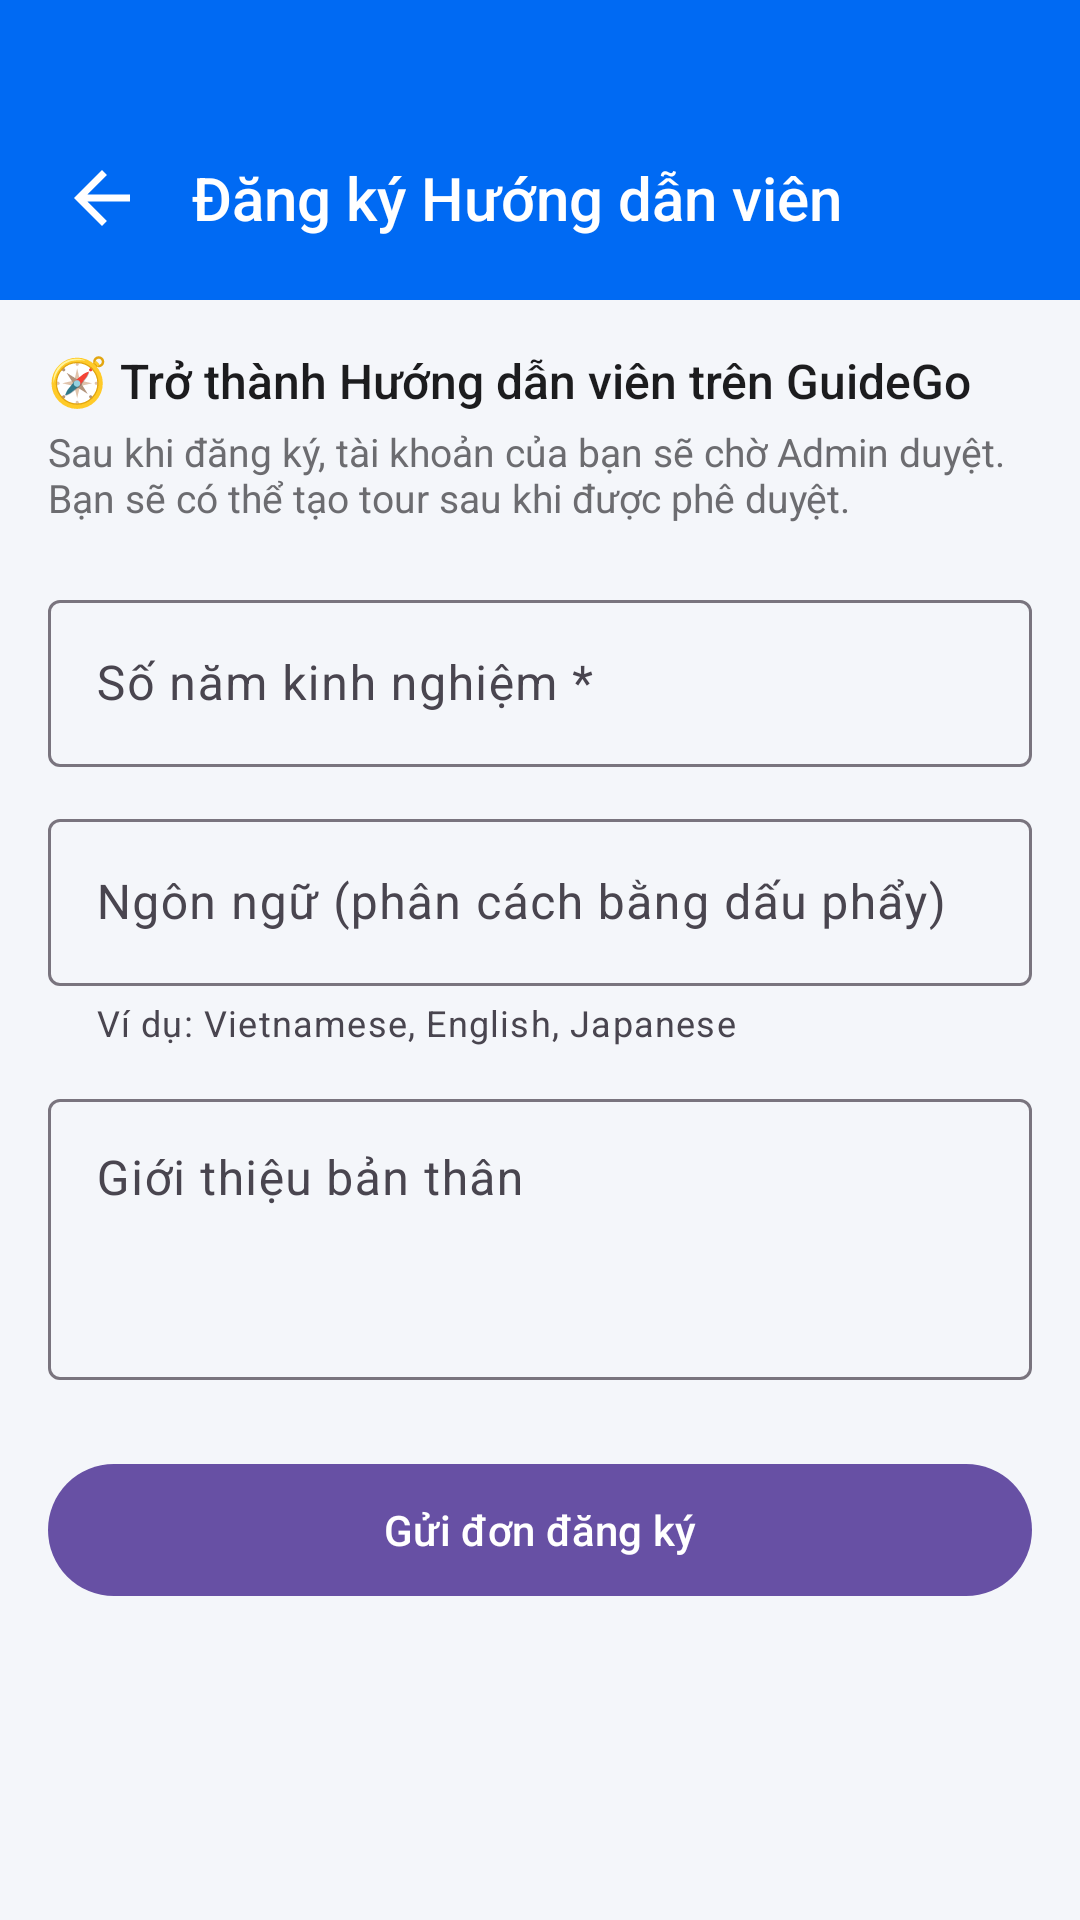

Screen size 1080×1920. Icon name, then its center in pixels as [x,y]:
arrow back: [102,198]
